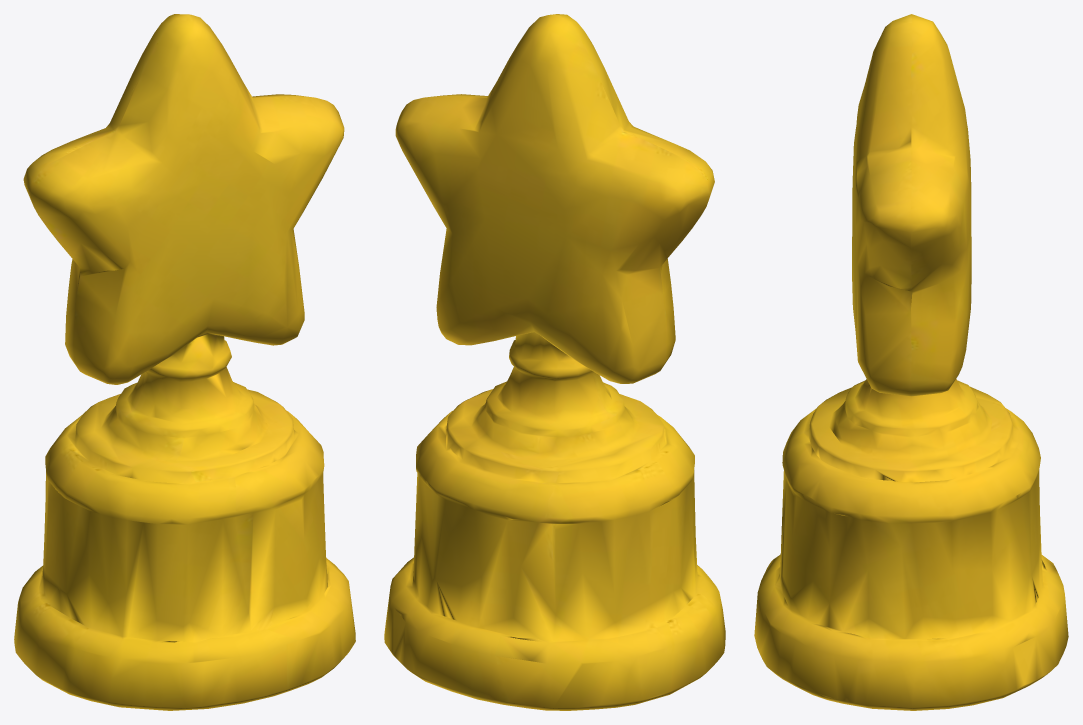
File: goldstatue.glb
3 views of the same model, side by side, from view 1: azimuth 30°, elevation 25°; view 2: azimuth 150°, elevation 25°; view 3: azimuth 270°, elevation 25° (orthographic).
Visible parts, largest first — view 1: model; view 2: model; view 3: model.
Part boxes in pixels (bbox=[...]): model: bbox=[14, 14, 355, 710]; model: bbox=[384, 14, 725, 710]; model: bbox=[754, 14, 1068, 710].
Bounding box in the file's own units: 0.9813 × 1.91 × 0.8706.
1 material, 1 textured.
